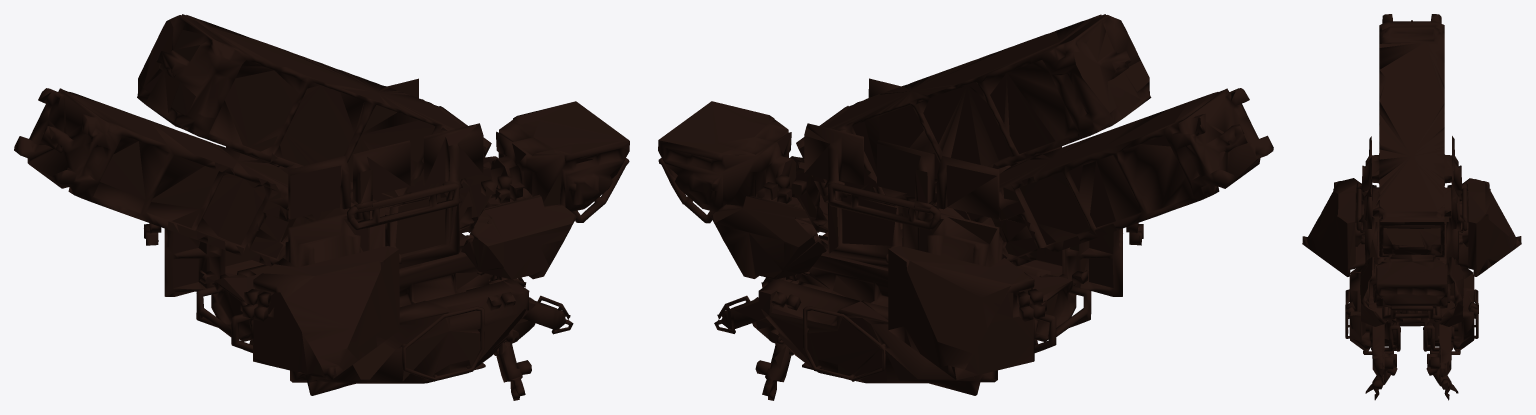
The model's file is space_garbage_truck-low.glb.
3 views of the same model, side by side, from view 1: azimuth 30°, elevation 25°; view 2: azimuth 150°, elevation 25°; view 3: azimuth 270°, elevation 25° (orthographic). The views are drawn at different scales.
Size of the model in its own units: 10.33 by 7.25 by 5.15.
